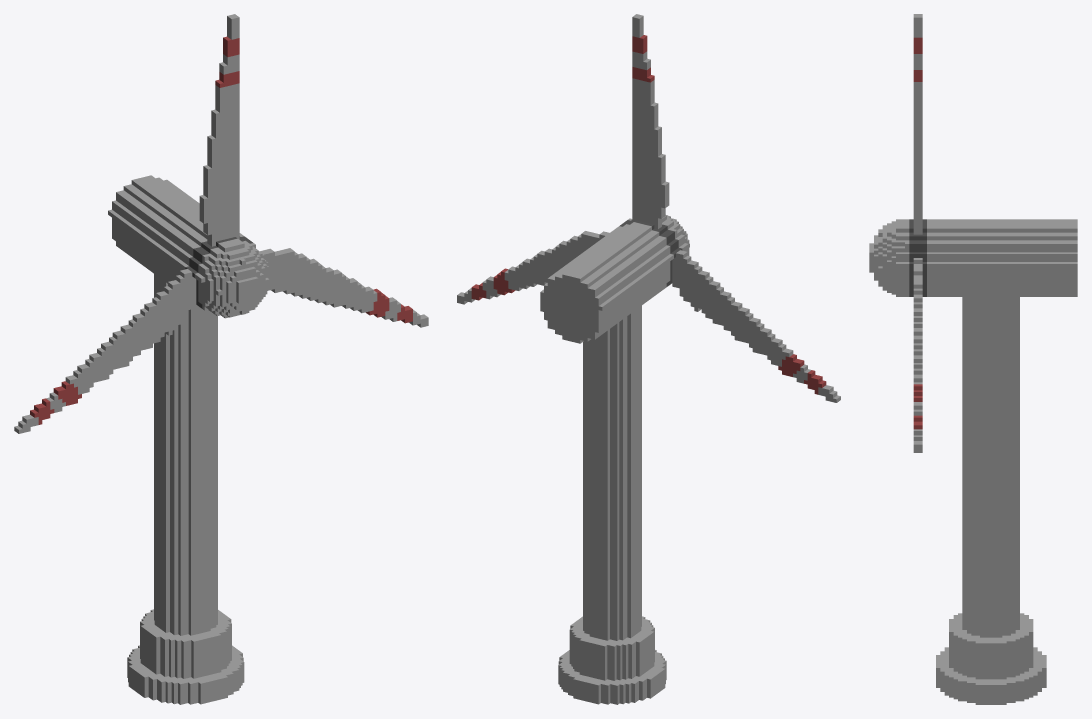
File: energetic-dao-wind-turbine.glb
The picture shows the model from 3 angles, left to right: view 1: azimuth 30°, elevation 25°; view 2: azimuth 150°, elevation 25°; view 3: azimuth 270°, elevation 25°; orthographic projection. The views are drawn at different scales.
Visible parts, largest first — view 1: wind-turbine.001; view 2: wind-turbine.001; view 3: wind-turbine.001.
Boxes of the visible parts, left/top/right/bottom form: wind-turbine.001: left=14, top=14, right=428, bottom=704; wind-turbine.001: left=457, top=14, right=840, bottom=704; wind-turbine.001: left=869, top=14, right=1077, bottom=704.
Bounding box in the file's own units: 10.4 × 16.7 × 4.7.
Materials: 1 (1 with a texture image).
